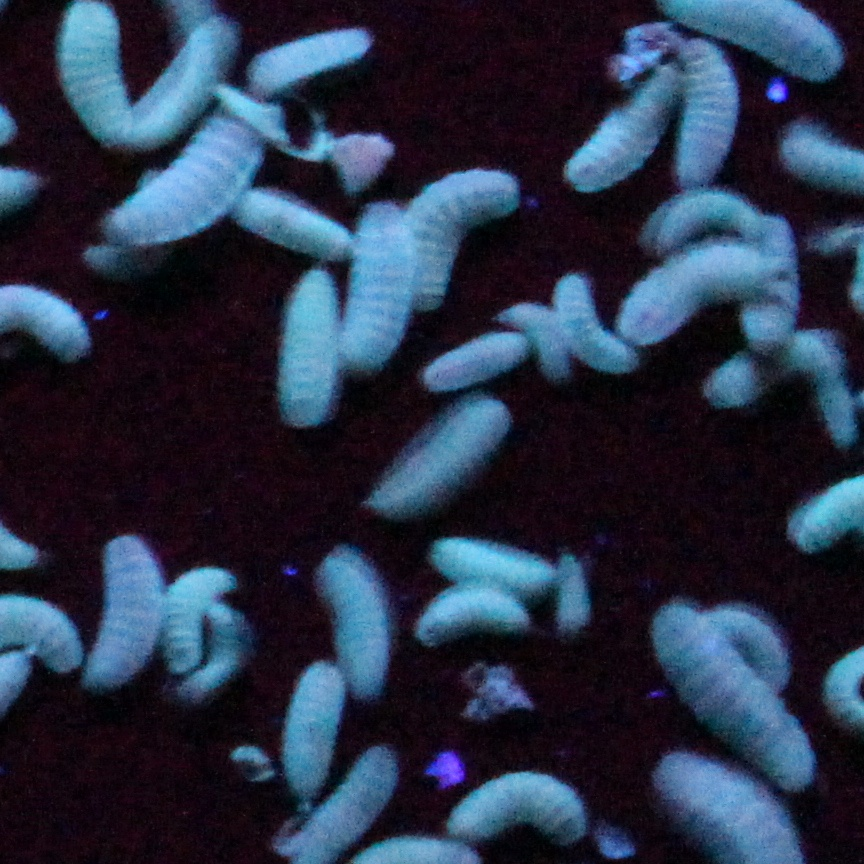larve: (668, 606, 812, 769), (136, 123, 258, 247), (402, 169, 517, 279), (378, 403, 504, 503), (319, 550, 400, 684), (578, 77, 663, 189), (629, 257, 775, 321), (458, 762, 583, 828), (95, 550, 156, 679), (258, 16, 365, 84), (797, 321, 853, 450), (358, 213, 400, 369), (683, 62, 731, 184), (658, 186, 756, 242), (263, 189, 348, 252), (292, 284, 331, 418), (297, 672, 339, 794), (722, 323, 780, 403), (573, 289, 634, 362), (173, 569, 217, 667), (422, 601, 524, 640), (522, 313, 580, 379), (443, 545, 546, 582), (731, 601, 780, 677), (431, 340, 507, 389), (563, 567, 600, 635), (217, 601, 241, 679)
